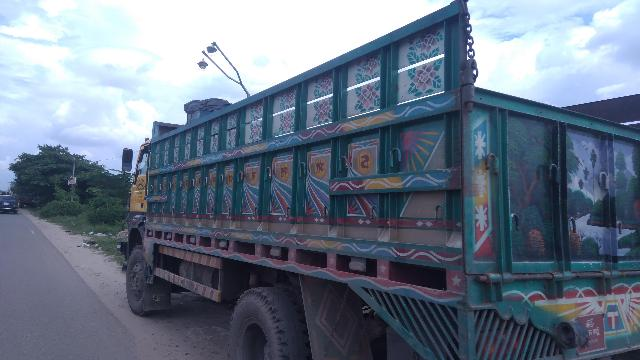car: (0, 184, 17, 218)
truck: (123, 3, 640, 360)
